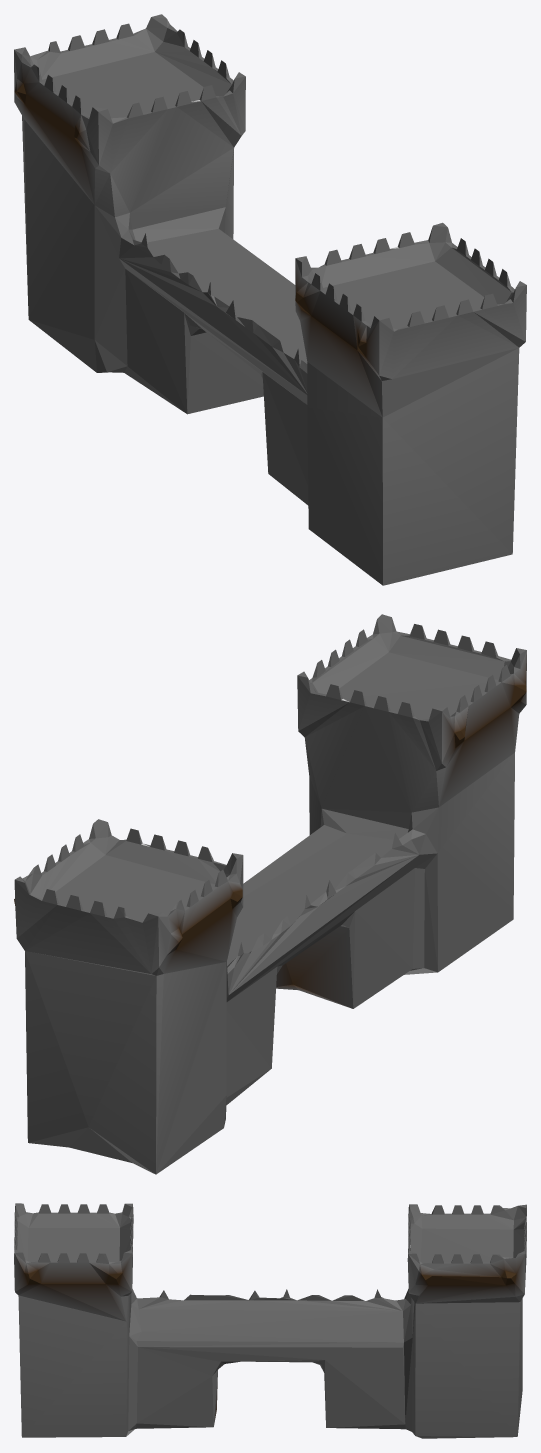
Rendered from Medieval Walls.glb.
3 views of the same model, one above another, from view 1: azimuth 30°, elevation 25°; view 2: azimuth 150°, elevation 25°; view 3: azimuth 270°, elevation 25° (orthographic). The views are drawn at different scales.
Parts seen in each view (by area): view 1: id0; view 2: id0; view 3: id0.
Boxes of the visible parts, bbox=[...] form: id0: bbox=[14, 14, 526, 585]; id0: bbox=[14, 614, 526, 1174]; id0: bbox=[14, 1203, 526, 1438].
Bounding box in the file's own units: 10.14 × 15.28 × 37.76.
